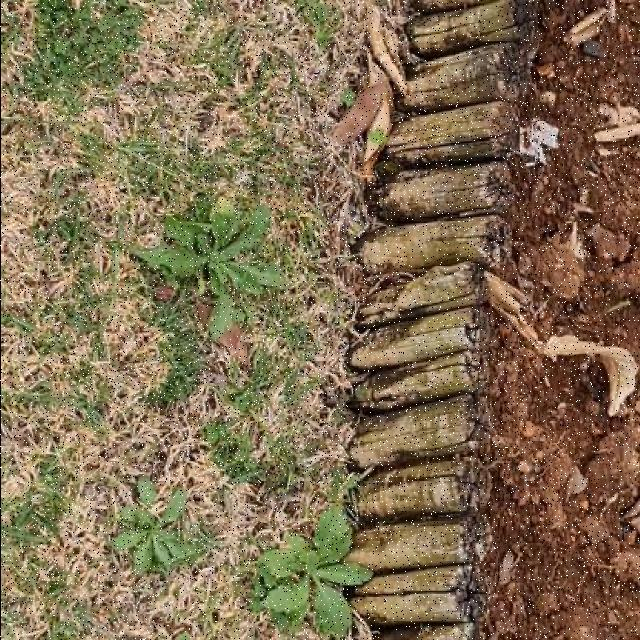weed: (135, 198, 283, 338), (257, 512, 371, 636), (110, 480, 198, 574)
